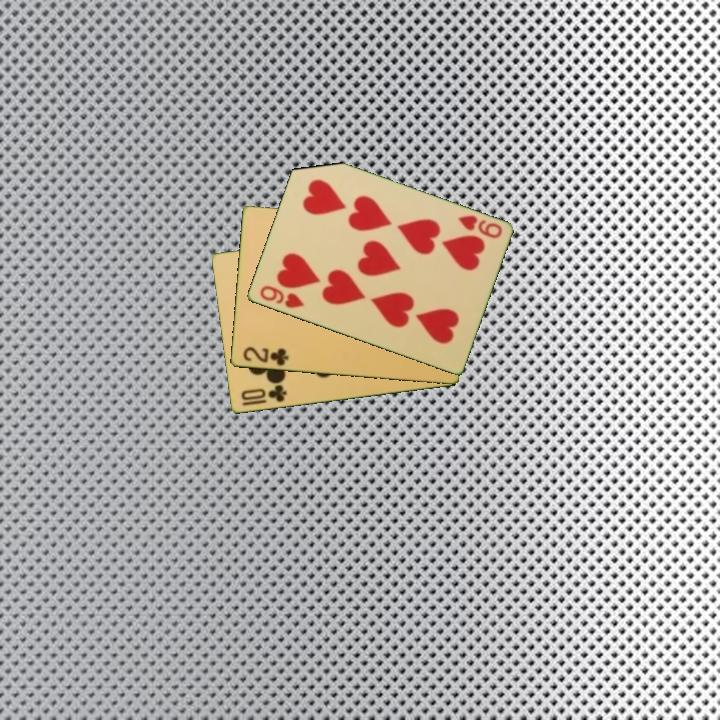10c: (237, 381, 289, 405)
2c: (239, 343, 291, 369)
9h: (256, 282, 307, 312), (454, 212, 505, 241)
